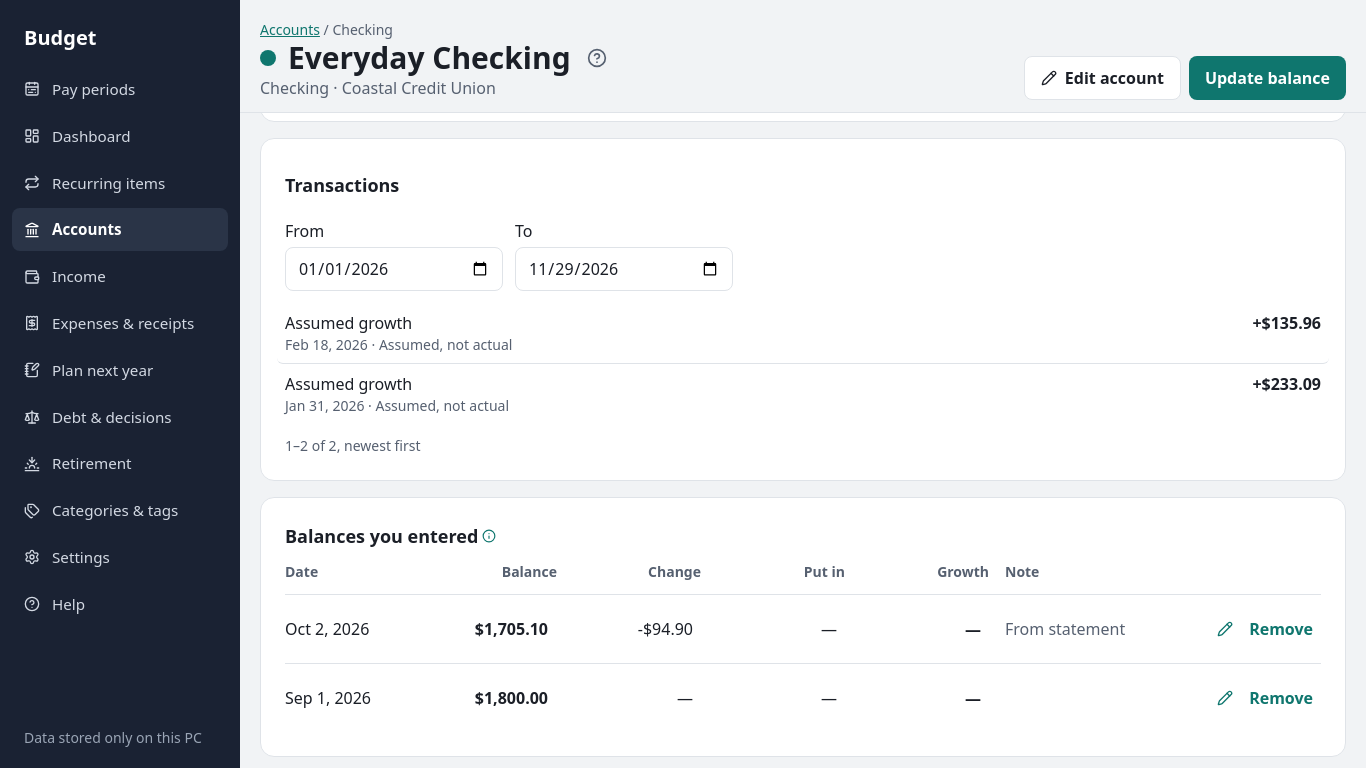
account detail screen › types over growth only for a whole month, not one cut short by the To date
(page scrolled)
Click the button with aria-label "Edit Assumed growth" at coordinates (349, 384), box [285, 372, 412, 396]
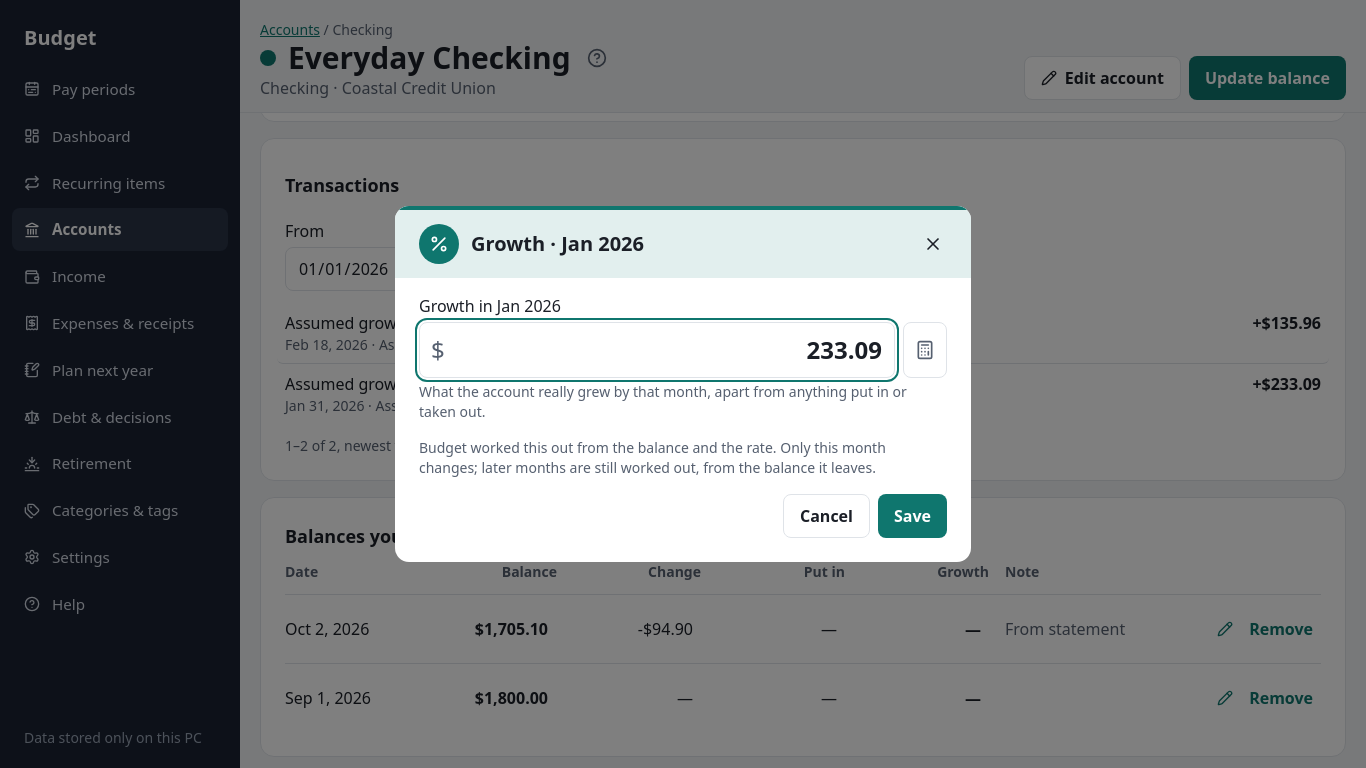
Expected: the dialog "Growth · Jan 2026" is shown, [395, 206, 971, 562]
Expected: the field labelled "Growth in Jan 2026" holds "233.09", [419, 322, 895, 378]
